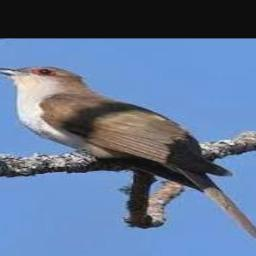Cuckoo: (0, 66, 256, 246)
